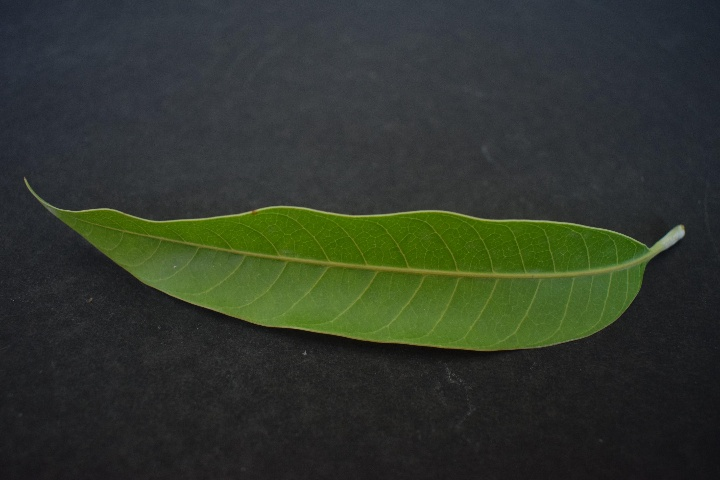healthy: (25, 180, 649, 341)
